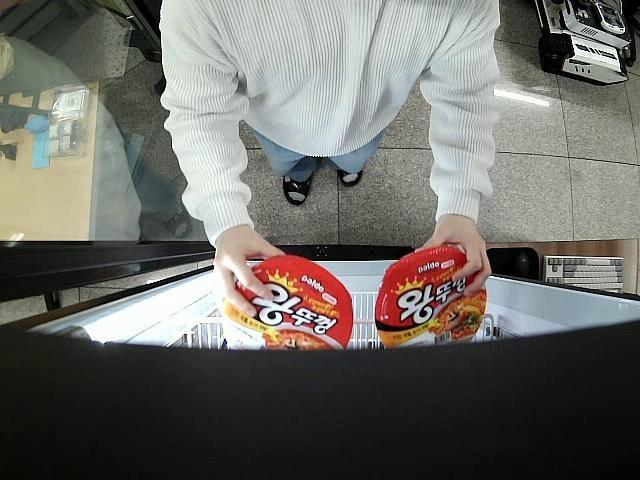10_wangTtukkeong: (220, 255, 354, 350), (376, 246, 488, 348)
